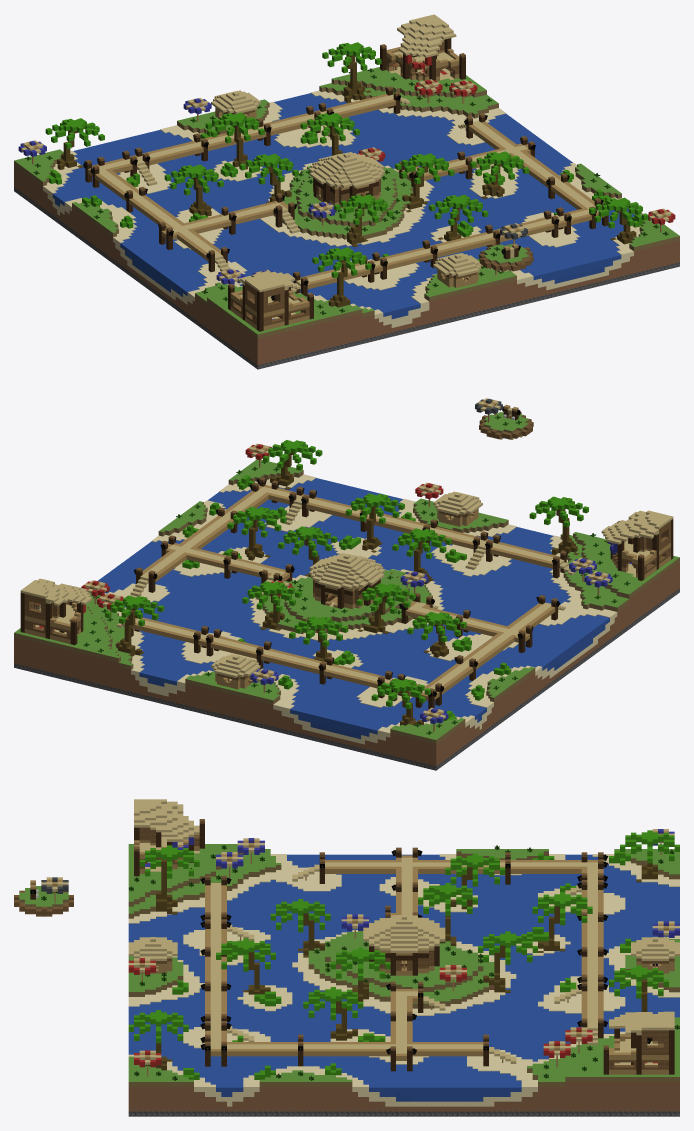
File: minecraft.obj
The picture shows the model from 3 angles, top to bottom: view 1: azimuth 30°, elevation 25°; view 2: azimuth 150°, elevation 25°; view 3: azimuth 270°, elevation 25°; orthographic projection. The views are drawn at different scales.
Size of the model in its own units: 101 by 26 by 122.
